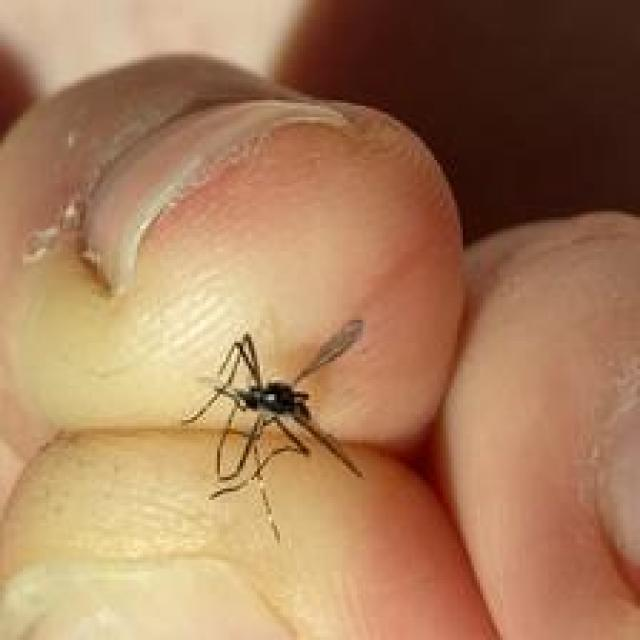Aedes albopictus: (179, 316, 367, 541)
